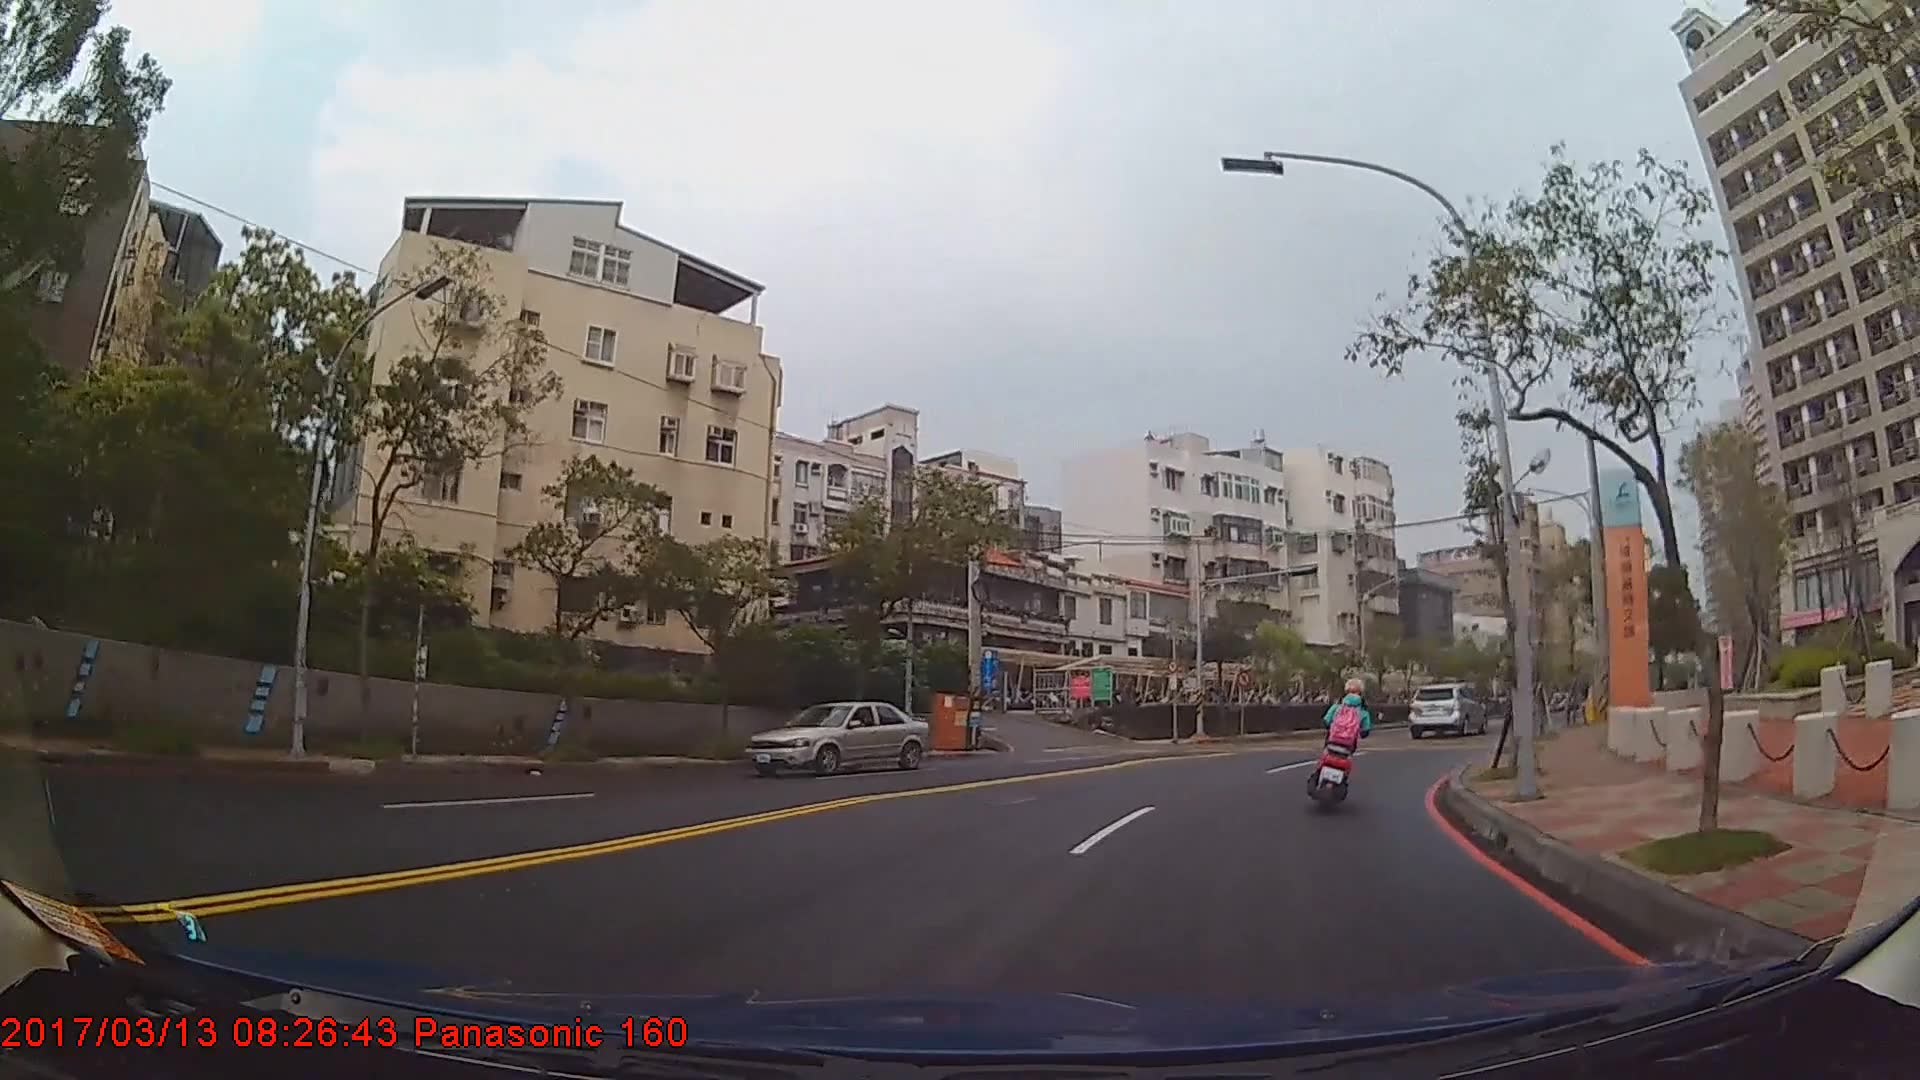rider: (1316, 677, 1376, 805)
vehicle: (741, 699, 931, 776), (1405, 681, 1487, 736)
